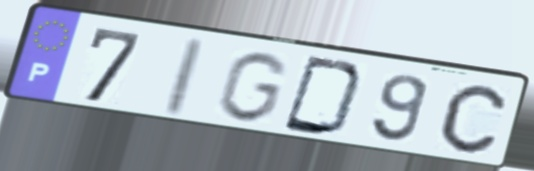7: (85, 25, 143, 104)
9: (369, 73, 429, 143)
C: (437, 82, 509, 156)
D: (279, 53, 369, 139)
G: (213, 49, 292, 125)
I: (157, 35, 211, 120)
